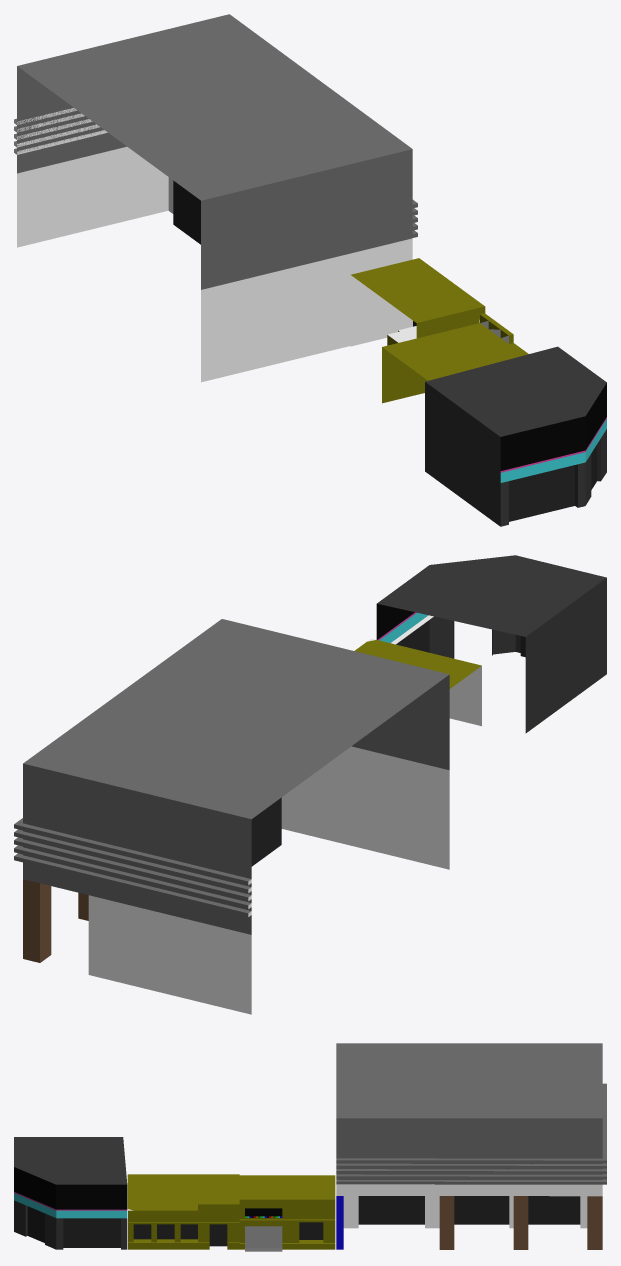
Rendered from Edificio-2-Izquierda.fbx.
3 renders of one model, top to bottom at view 1: azimuth 30°, elevation 25°; view 2: azimuth 150°, elevation 25°; view 3: azimuth 270°, elevation 25°, orthographic. The views are drawn at different scales.
Parts seen in each view (by area): view 1: Plane4; view 2: Plane4; view 3: Plane4.
Boxes of the visible parts, x1,y1,x2,y2 form: Plane4: [14, 14, 606, 526]; Plane4: [14, 555, 606, 1014]; Plane4: [14, 1043, 606, 1251].
Size of the model in its own units: 2665 by 2123 by 8687.
